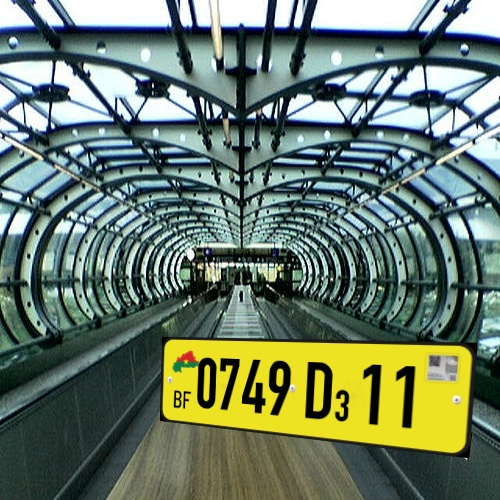plate: (154, 324, 488, 473)
